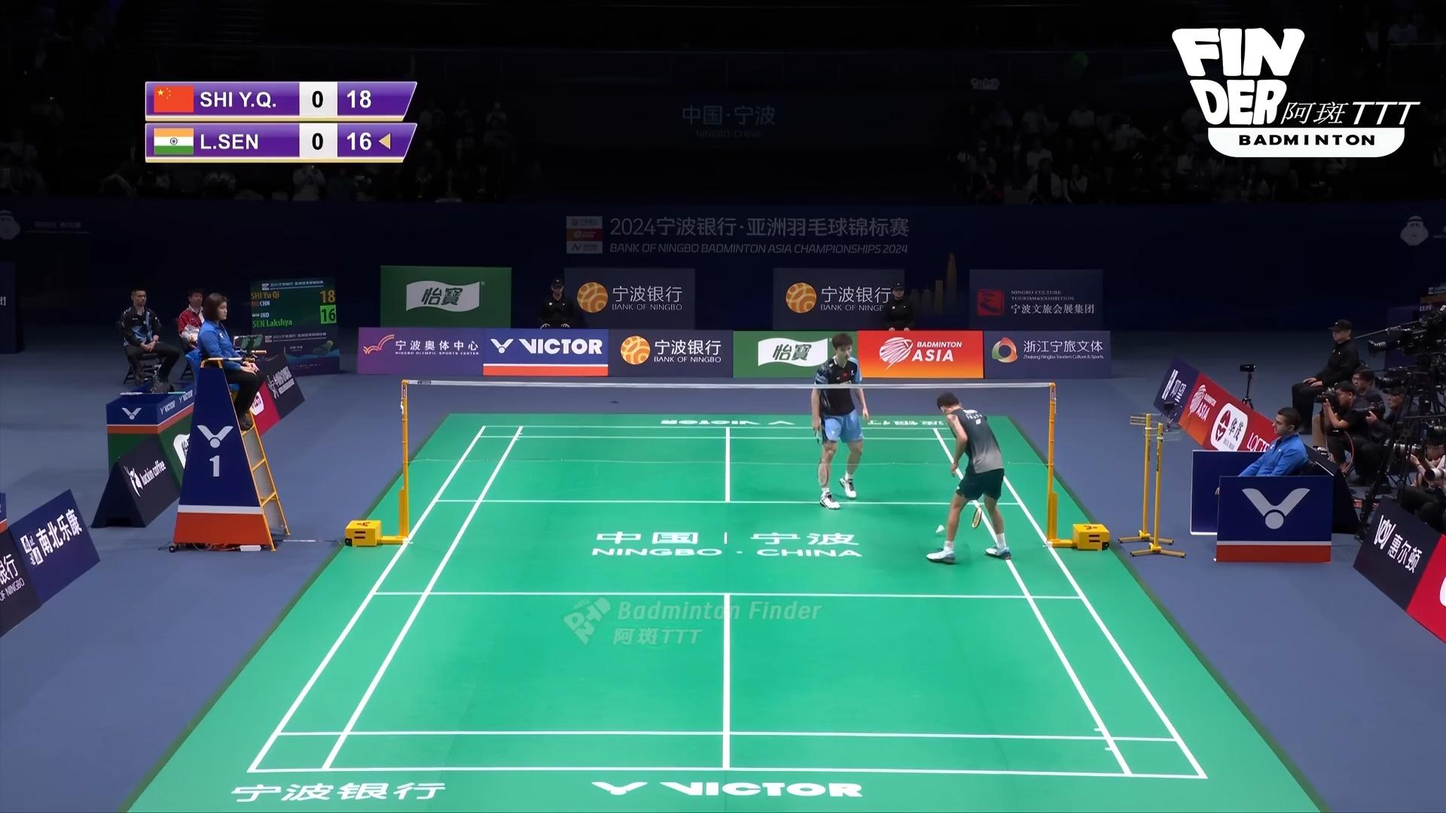shuttlecock: (933, 523, 947, 534)
